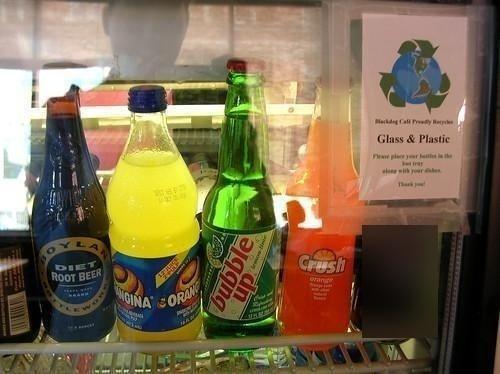bottle-glass: (203, 55, 284, 341), (279, 70, 363, 334), (29, 82, 108, 342)
bottle-plastic: (109, 85, 202, 347)
